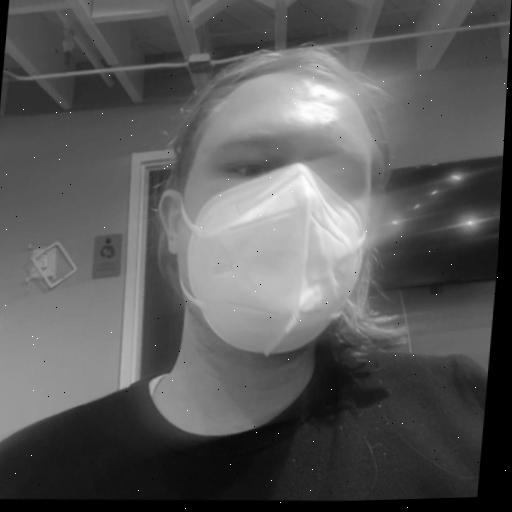mask: (91, 31, 432, 459)
